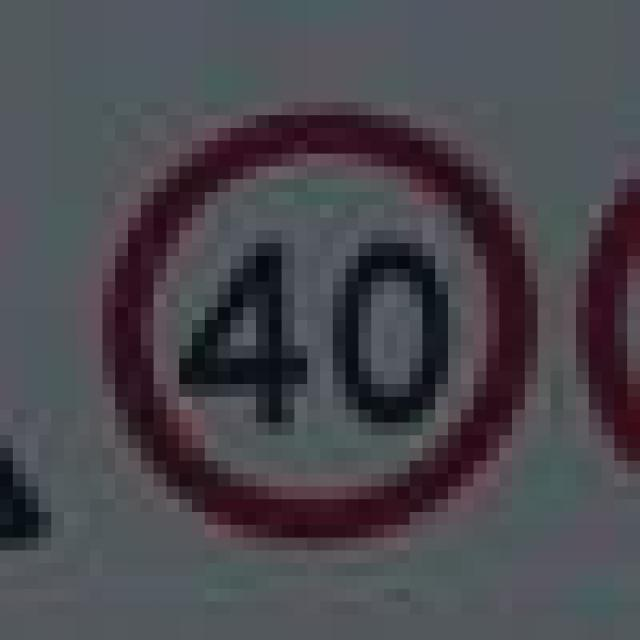SPEED_LIMIT_40: (90, 76, 524, 538)
